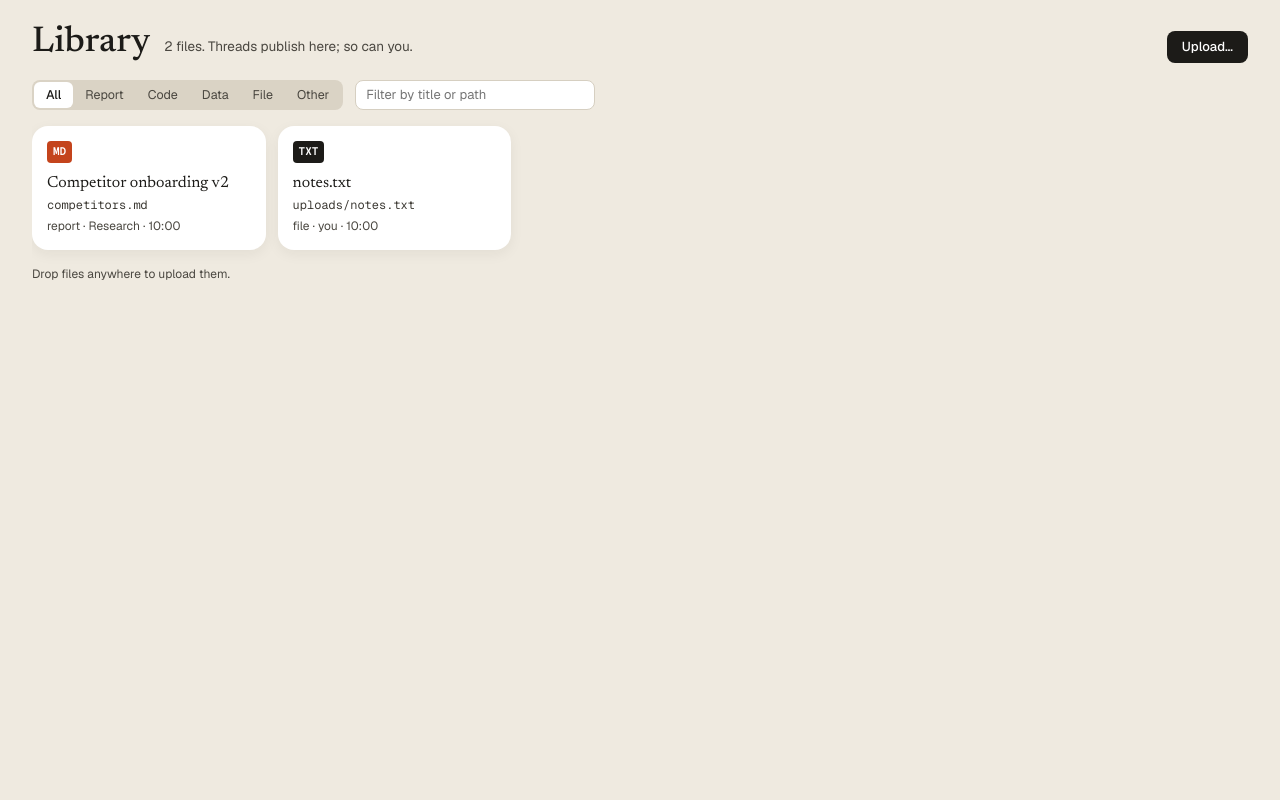
Test: LibraryScreen › lists files with their origin, filters by kind, and previews Markdown safely
Check: the button "Competitor onboarding v2" shows "Research", box [32,126,266,250]
Click the button "File": (263, 95) [241,82,285,108]
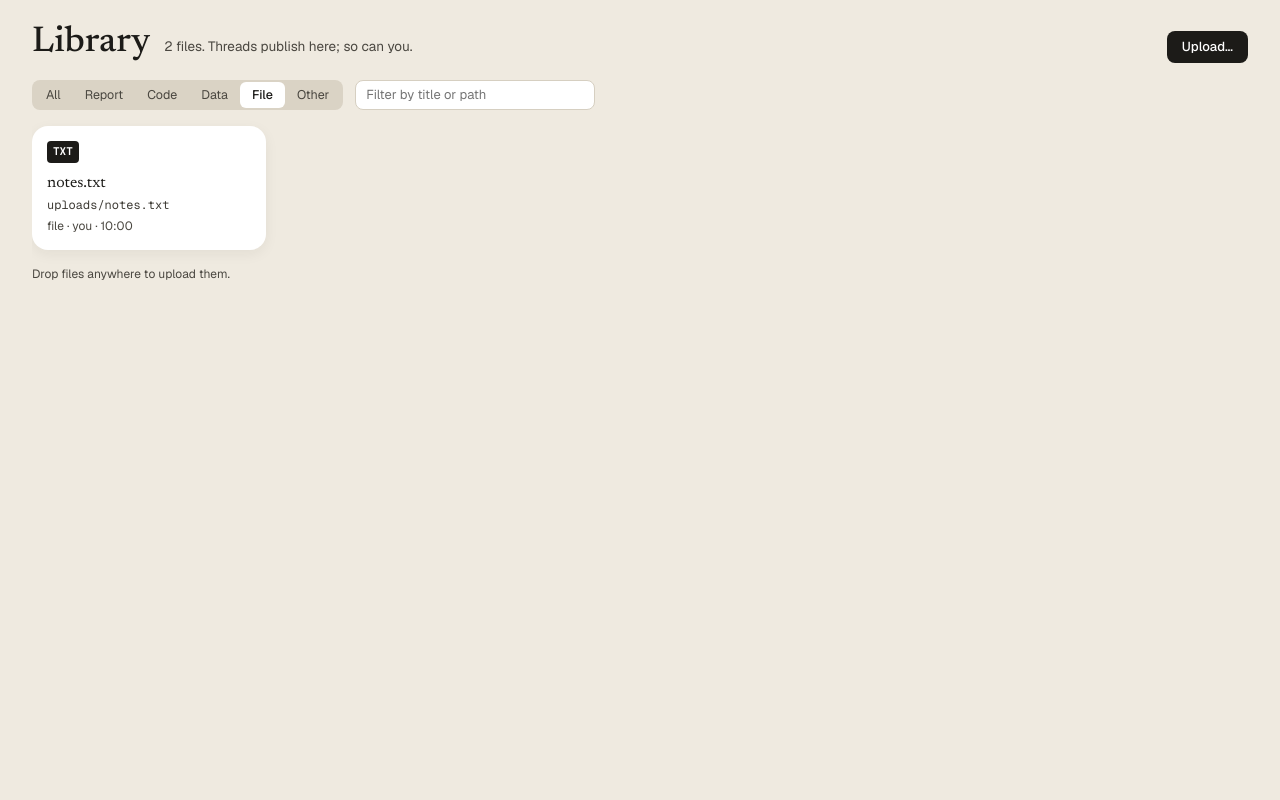
Check: the button "Competitor onboarding v2" is gone
Click the button "All": (53, 95) [34,82,73,108]
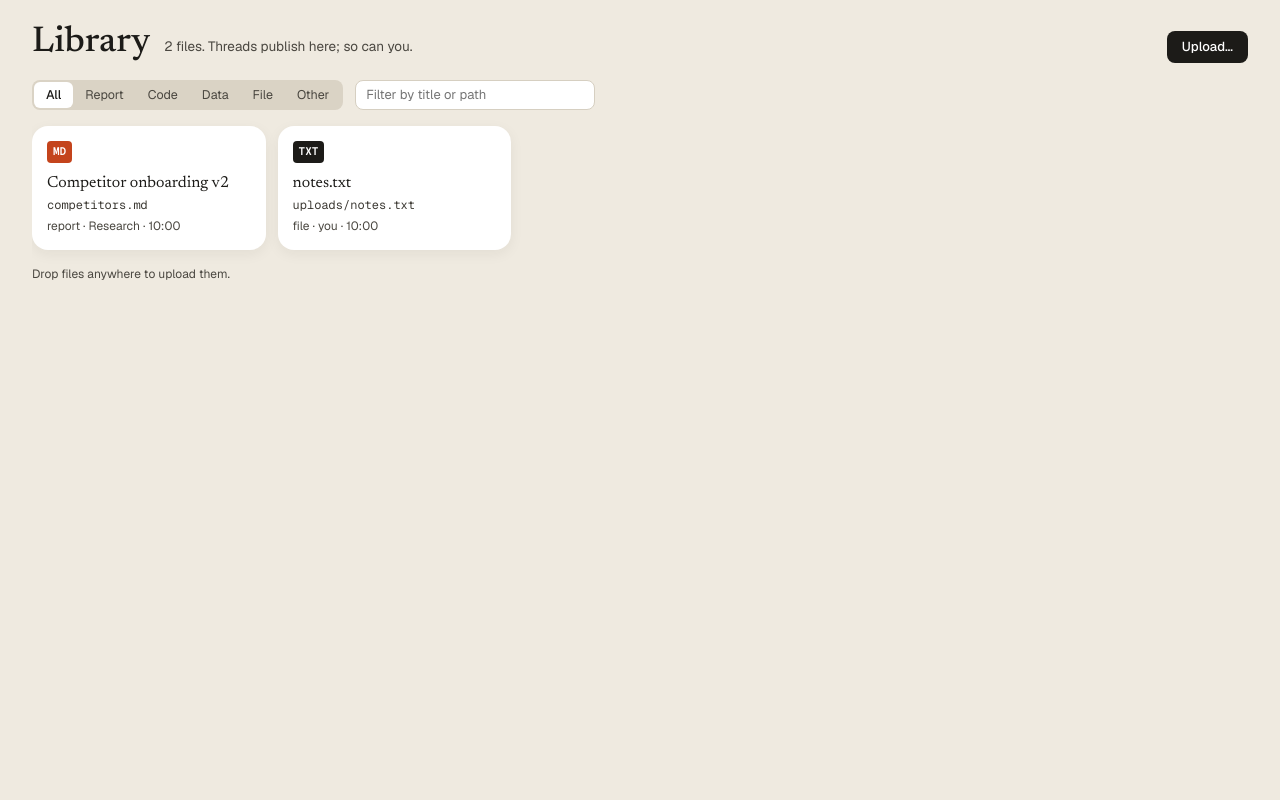
Click the button "Competitor onboarding v2": (149, 188) [32,126,266,250]
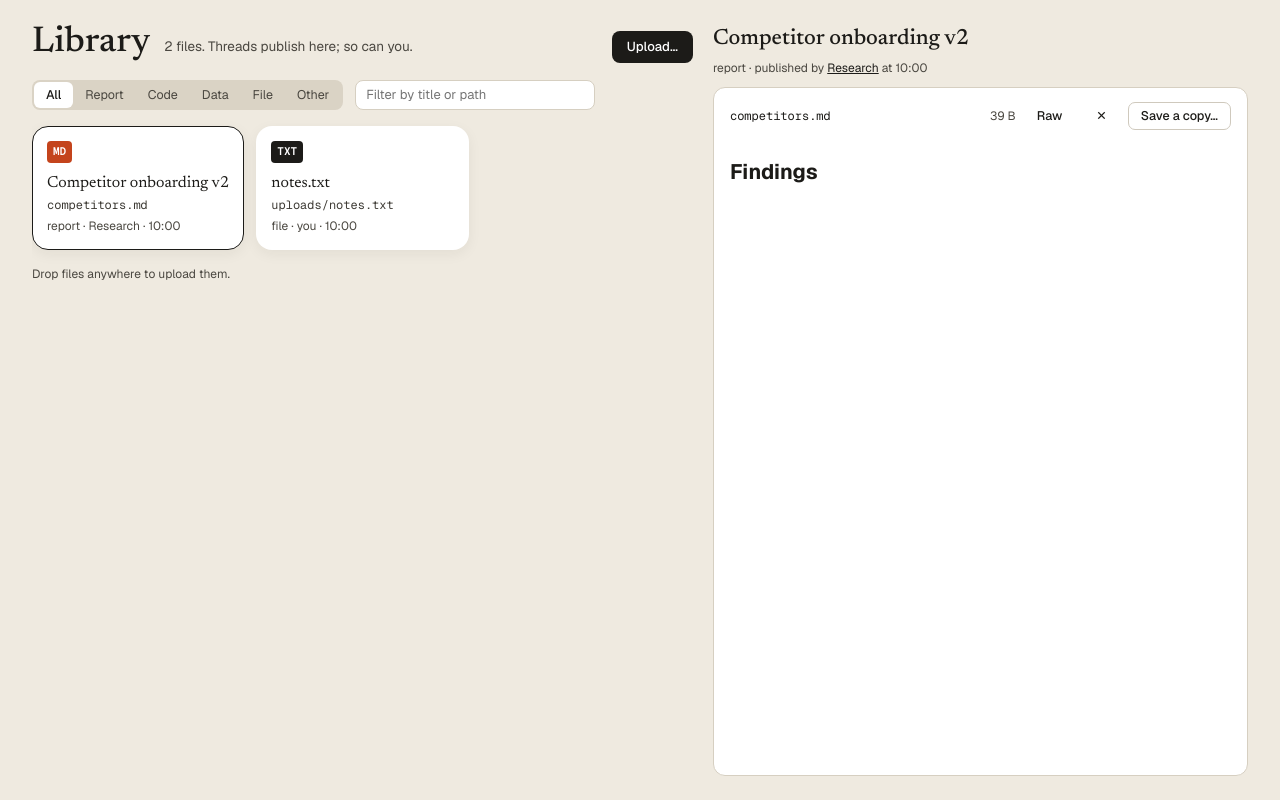
Check: the heading "Findings" is shown, box [730,158,818,185]
